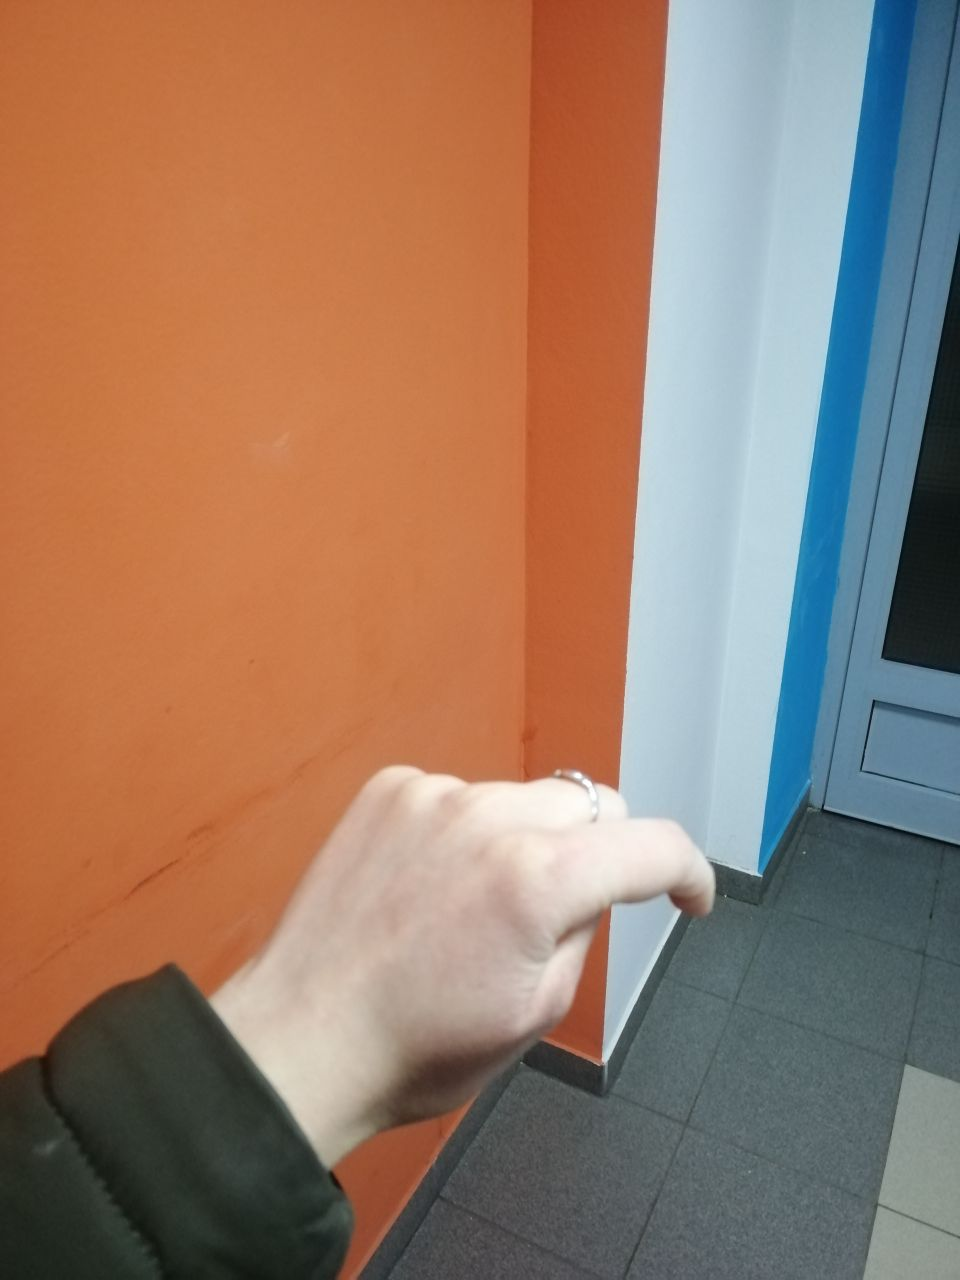hand: (329, 793, 697, 1090)
